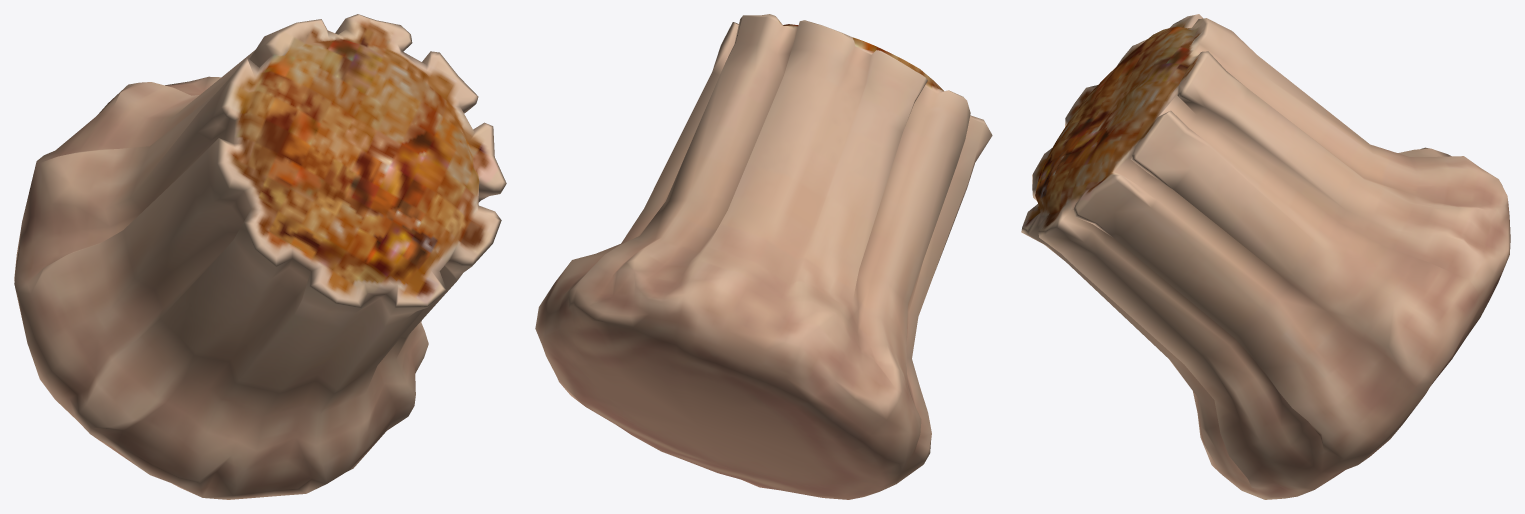
The model's file is BFShaoMai.obj.
The picture shows the model from 3 angles, left to right: view 1: azimuth 30°, elevation 25°; view 2: azimuth 150°, elevation 25°; view 3: azimuth 270°, elevation 25°; orthographic projection. The views are drawn at different scales.
Visible parts, largest first — view 1: nuomishaomai; view 2: nuomishaomai; view 3: nuomishaomai.
Part boxes in pixels (x1,y1,x2,y2): nuomishaomai: (14, 14, 506, 499); nuomishaomai: (535, 14, 992, 499); nuomishaomai: (1021, 14, 1510, 499).
Bounding box in the file's own units: 0.8656 × 1.04 × 1.04.
